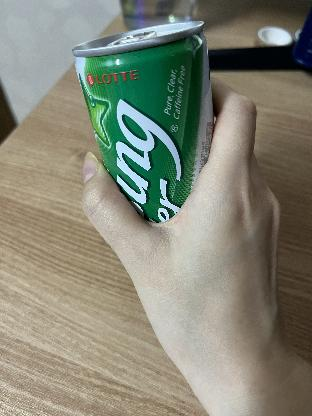Can: (73, 21, 215, 222)
